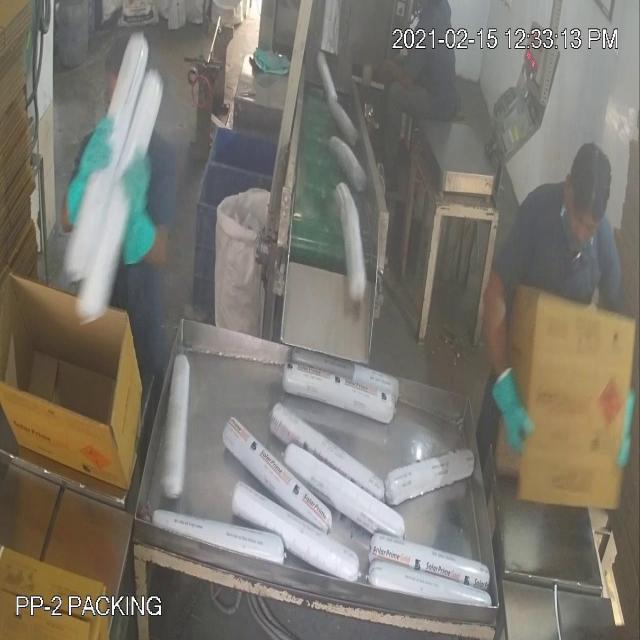Gloves: (39, 50, 512, 408)
